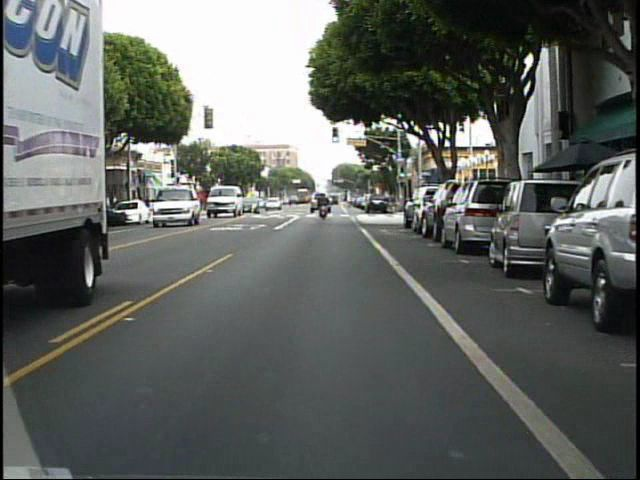person: (316, 191, 332, 220)
